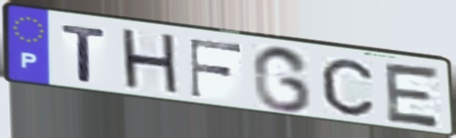C: (318, 56, 377, 118)
E: (383, 60, 444, 131)
F: (188, 37, 245, 100)
G: (250, 44, 314, 114)
H: (118, 26, 184, 100)
T: (59, 22, 110, 85)
